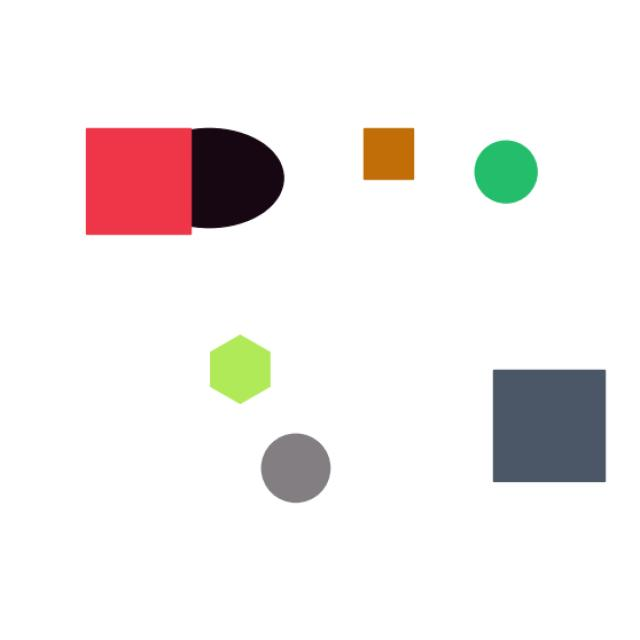Circle: (250, 424, 344, 512), (463, 126, 553, 217)
Hexagon: (199, 329, 278, 414)
Oval: (110, 118, 312, 238)
square: (463, 350, 619, 500), (69, 119, 219, 252), (352, 122, 448, 193)
